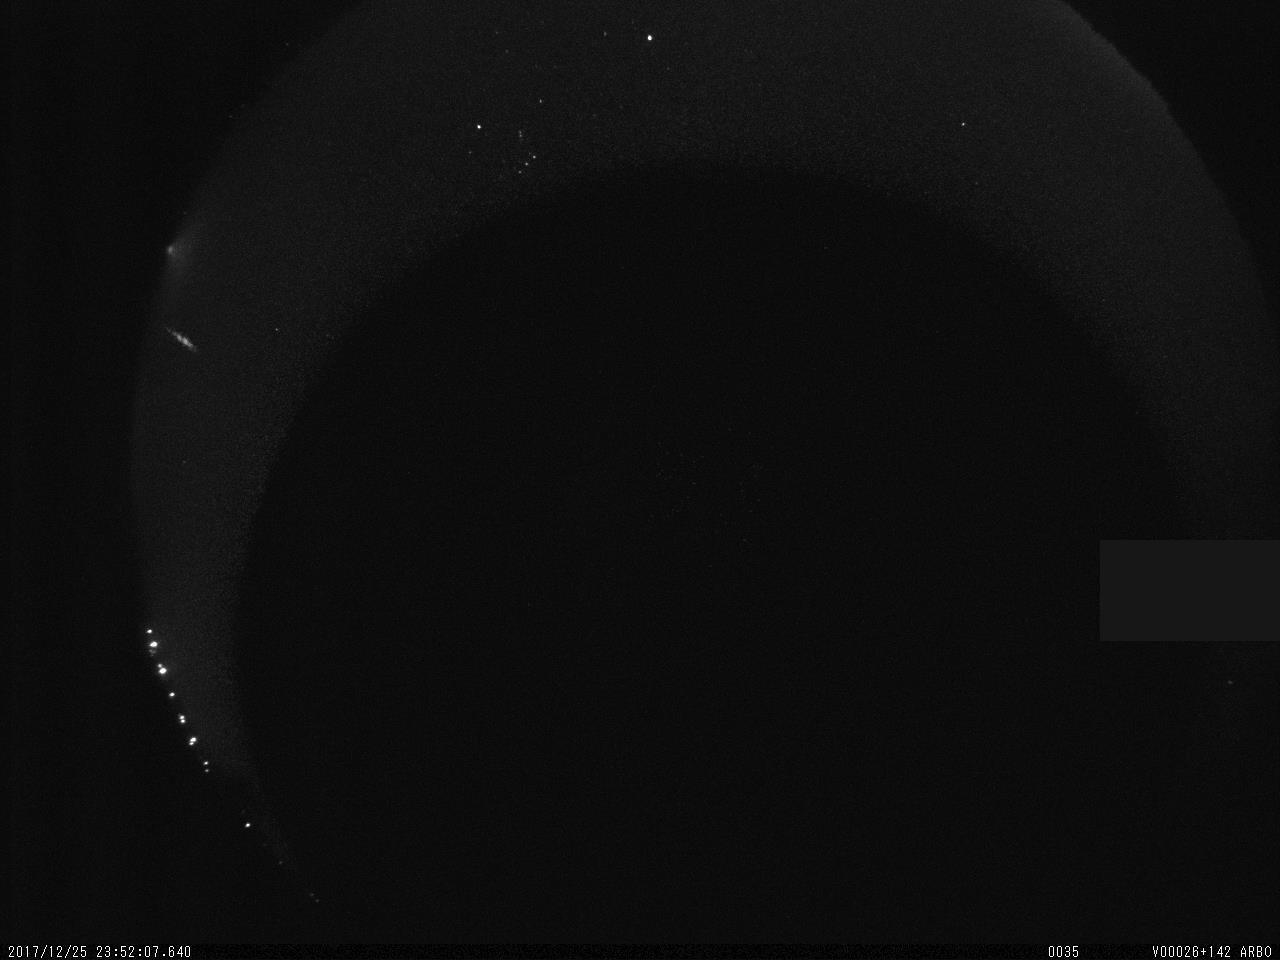meteor: (154, 320, 212, 365)
